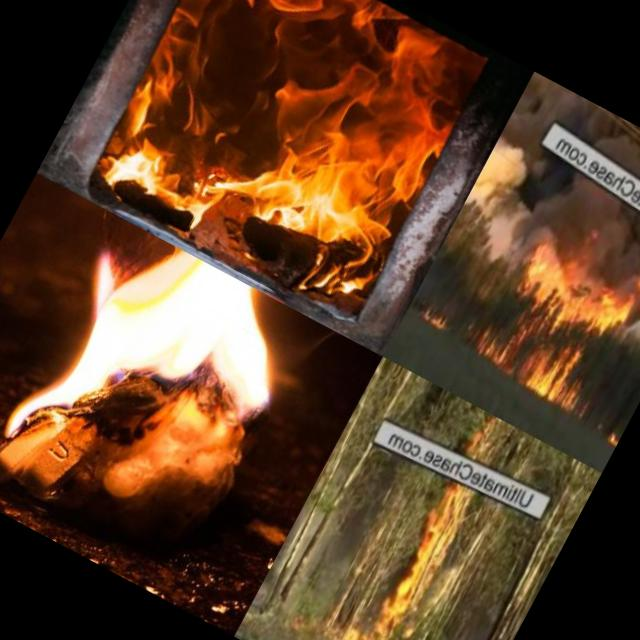fire: (79, 0, 487, 324), (0, 211, 324, 539), (473, 241, 640, 418), (363, 483, 484, 640), (412, 296, 452, 331), (600, 424, 624, 449)
smoke: (444, 130, 588, 284), (528, 187, 640, 329)
